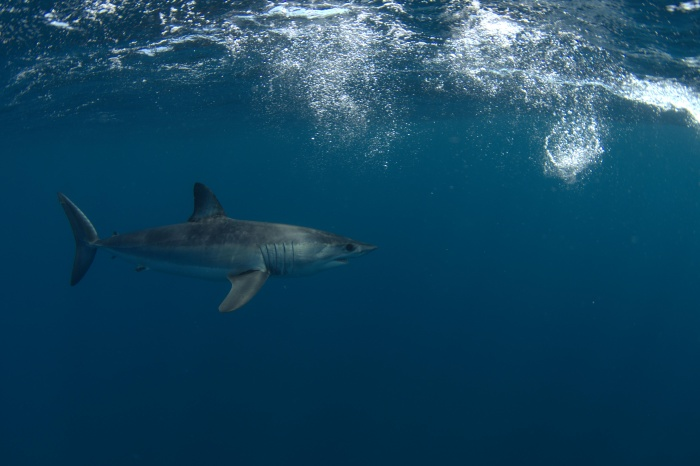Mako: (51, 180, 393, 320)
